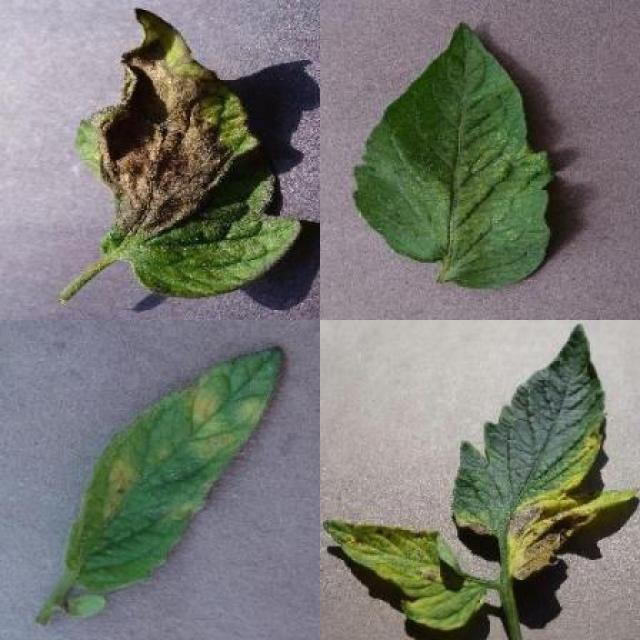Early Blight: (451, 322, 640, 584)
Late Blight: (77, 7, 302, 300)
Leaf Mold: (70, 344, 284, 590)
Spider Mites: (354, 21, 552, 290)
